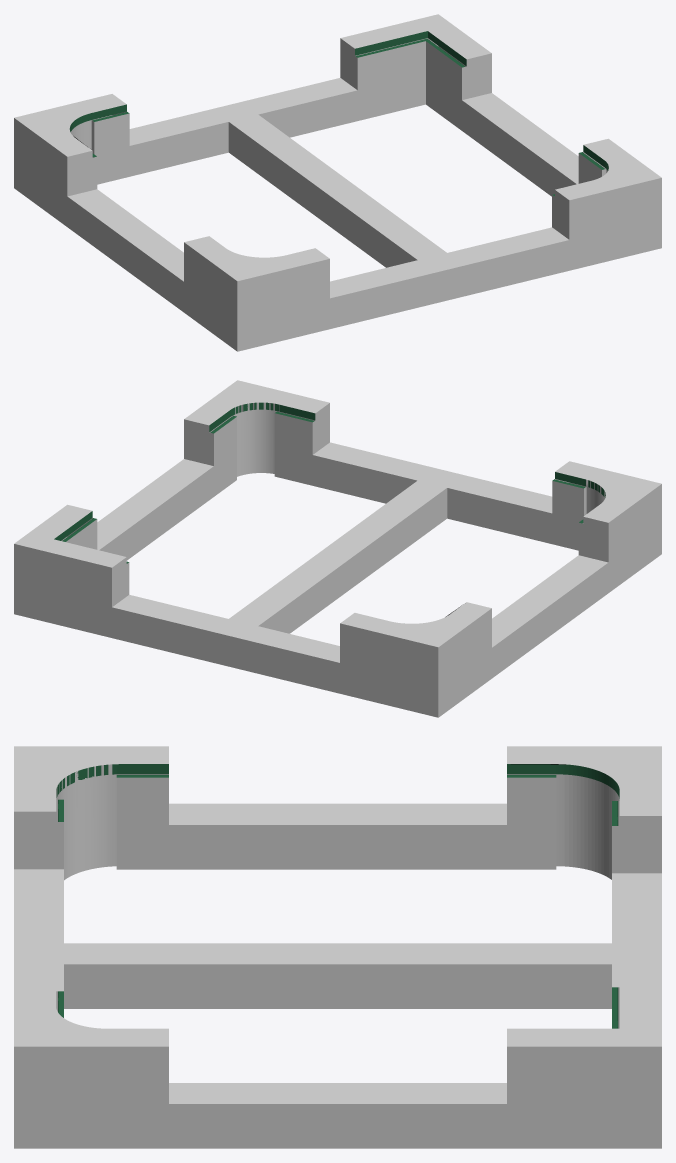
The model's file is ArduFrauenfelderCNC controller board holder.dae.
The picture shows the model from 3 angles, top to bottom: view 1: azimuth 30°, elevation 25°; view 2: azimuth 150°, elevation 25°; view 3: azimuth 270°, elevation 25°; orthographic projection. The views are drawn at different scales.
Parts seen in each view (by area): view 1: SketchUp (×2); view 2: SketchUp; view 3: SketchUp (×2).
Part boxes in pixels (box(x1,y1,x2,y2)): SketchUp (×2): box(14, 14, 661, 351); SketchUp: box(14, 380, 661, 717); SketchUp (×2): box(14, 746, 661, 1148).
Bounding box in the file's own units: 3.97 × 3.62 × 0.6299.
Materials: 4 (2 with a texture image).
